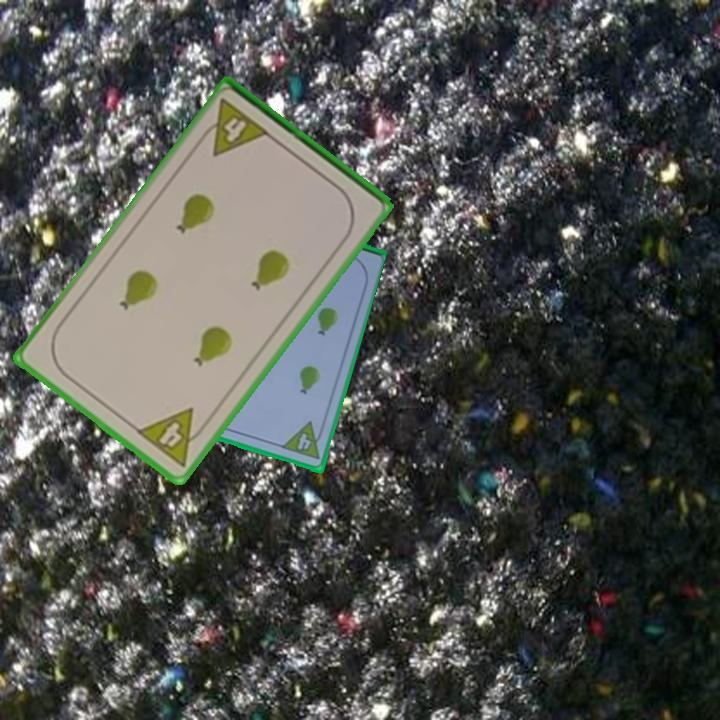4p: (132, 404, 213, 471), (194, 95, 273, 160), (279, 419, 327, 463)
